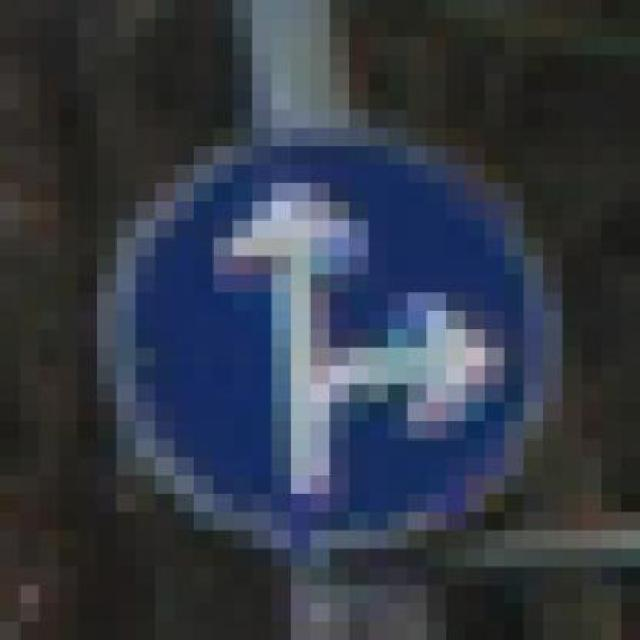Go Straight or Turn Right: (78, 110, 582, 548)
